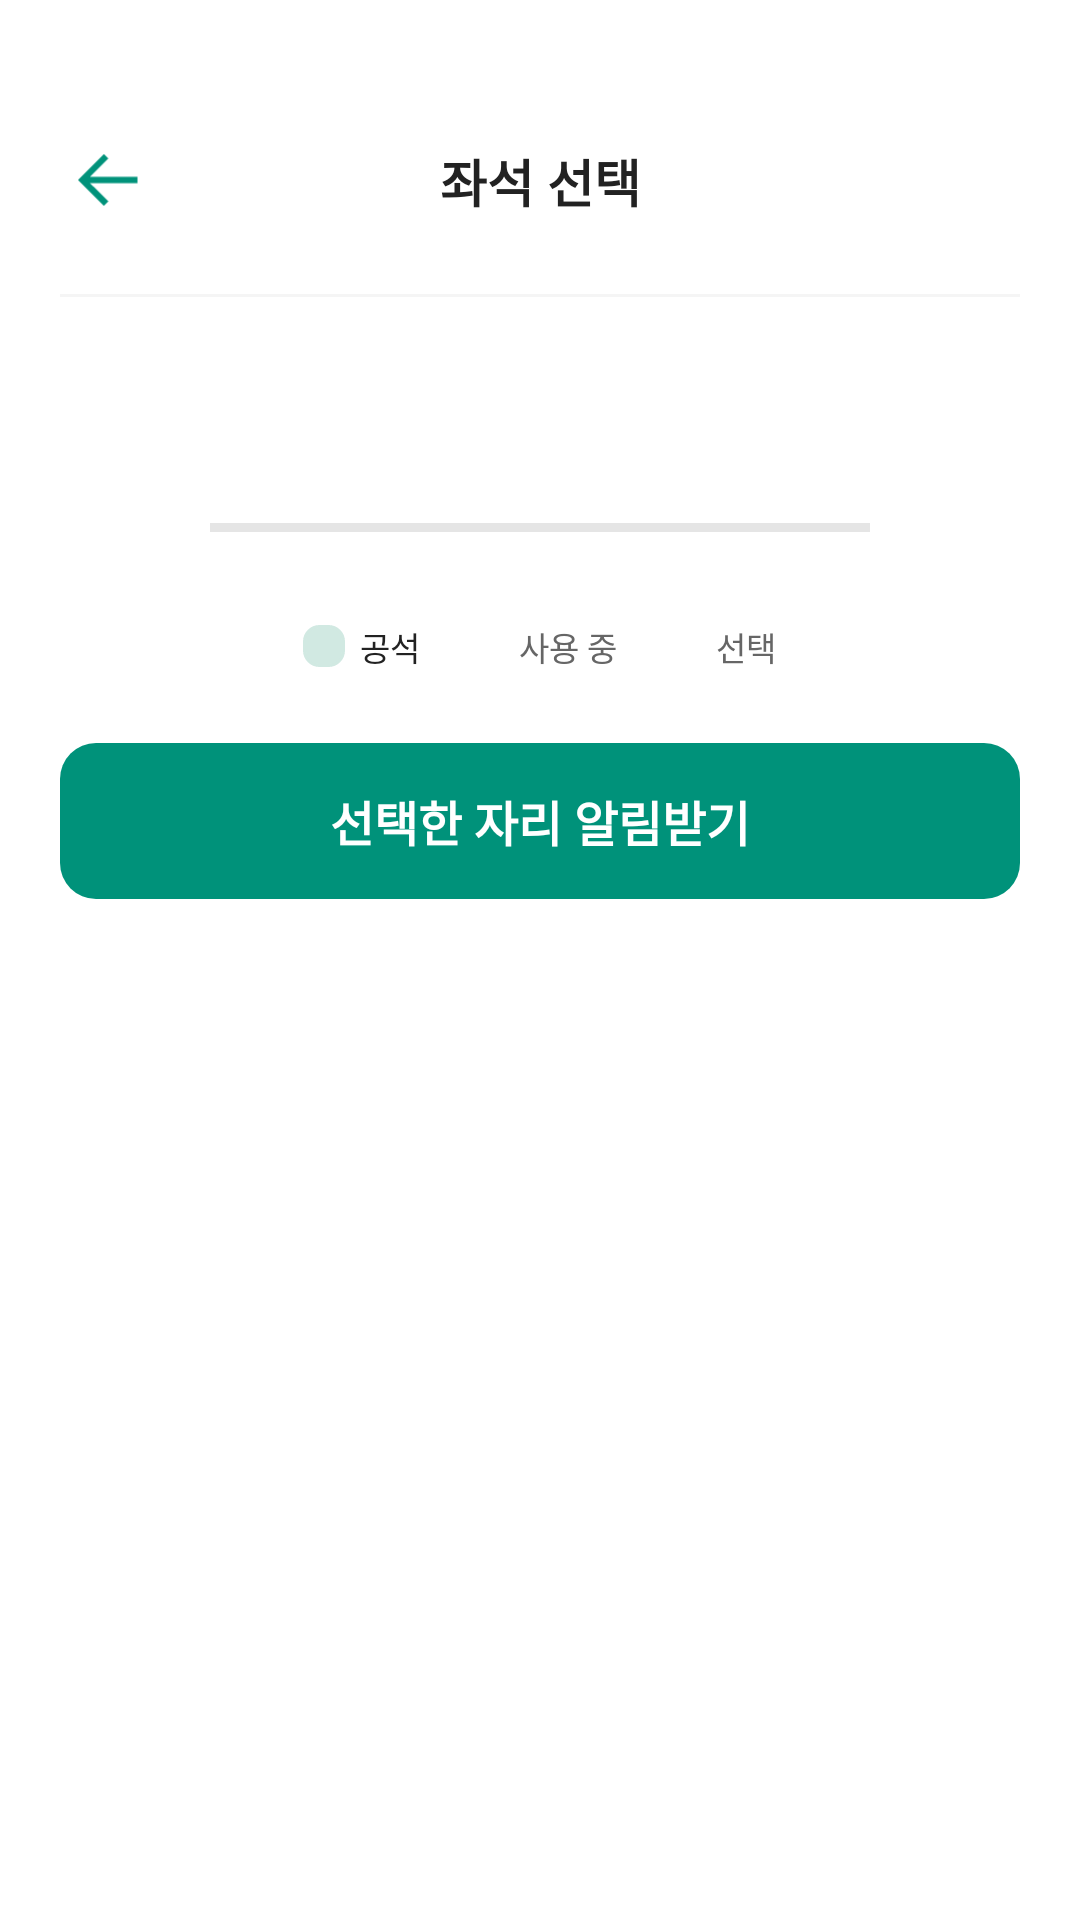

Named icons in this screenshot (1080w x 1920h) and their centers, point (x, y):
back: point (108, 180)
